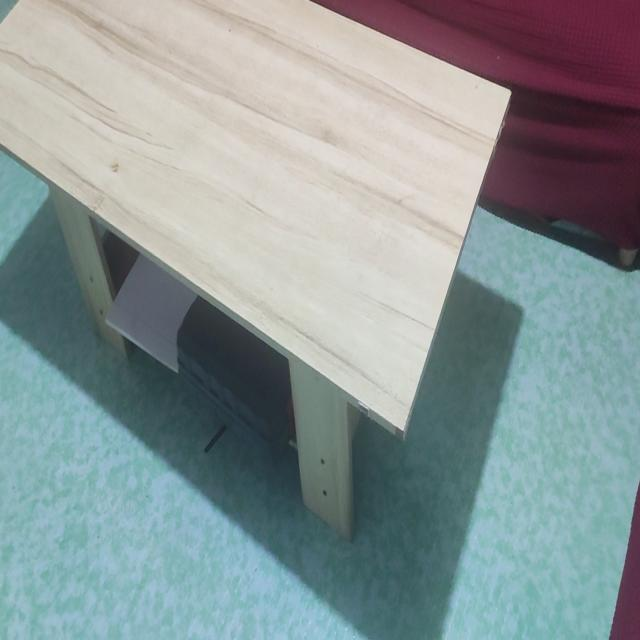table: (0, 0, 516, 550)
